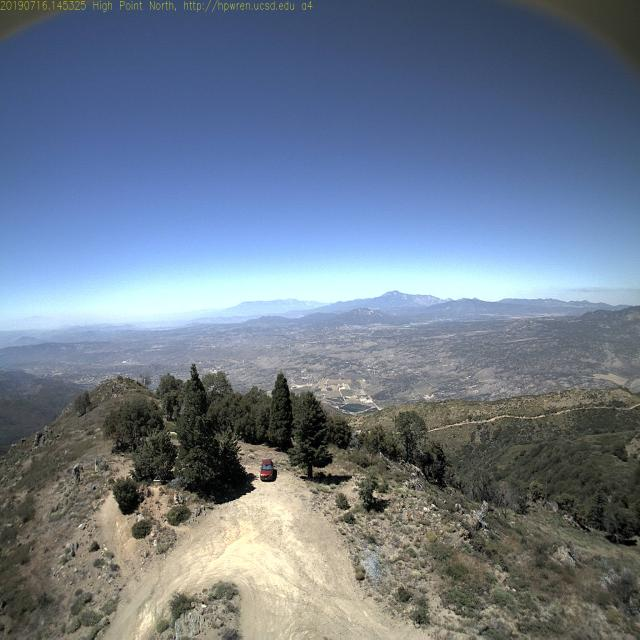smoke: (395, 308, 433, 337)
